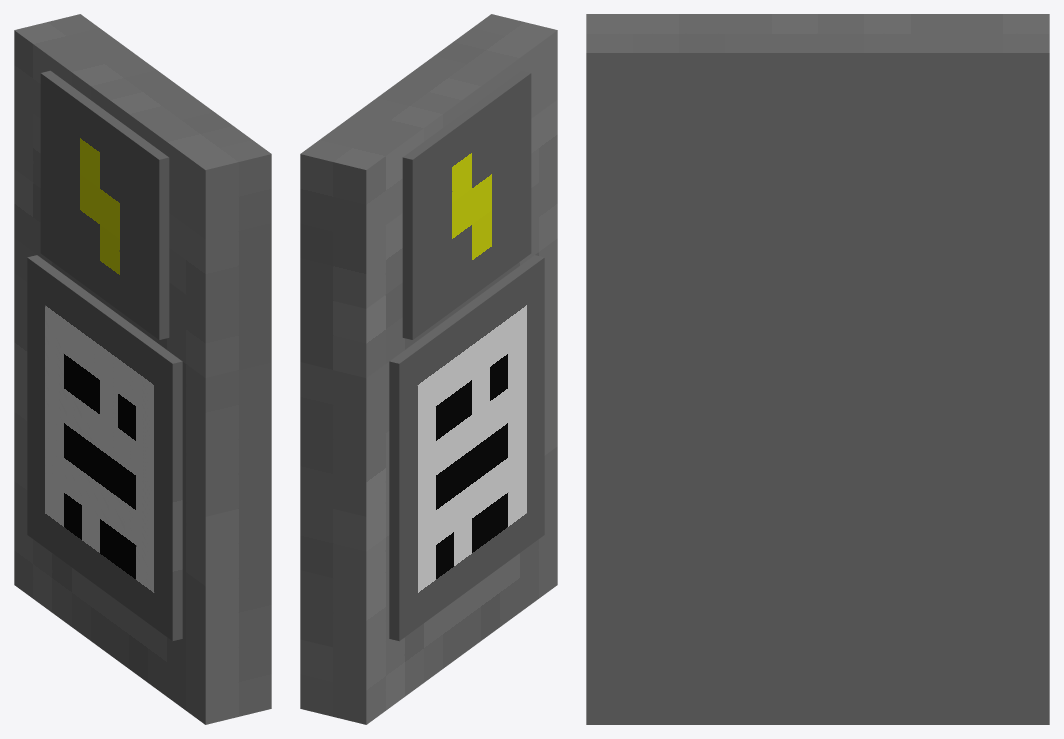
Rendered from Wall_electrical_box.gltf.
3 renders of one model, left to right at view 1: azimuth 30°, elevation 25°; view 2: azimuth 150°, elevation 25°; view 3: azimuth 270°, elevation 25°, orthographic. The views are drawn at different scales.
Parts seen in each view (by area): view 1: Main_box, Electrical_lid, Sign; view 2: Main_box, Electrical_lid, Sign; view 3: Main_box, Lever_base.
Part boxes in pixels (left/top/right/bottom): Main_box: left=14, top=14, right=271, bottom=724; Electrical_lid: left=27, top=255, right=182, bottom=641; Sign: left=40, top=70, right=169, bottom=339; Main_box: left=300, top=14, right=557, bottom=724; Electrical_lid: left=389, top=255, right=544, bottom=641; Sign: left=402, top=70, right=531, bottom=339; Main_box: left=586, top=14, right=1049, bottom=724; Lever_base: left=790, top=486, right=845, bottom=535.
Size of the model in its own units: 0.1438 by 1 by 0.625.
1 material, 1 textured.
